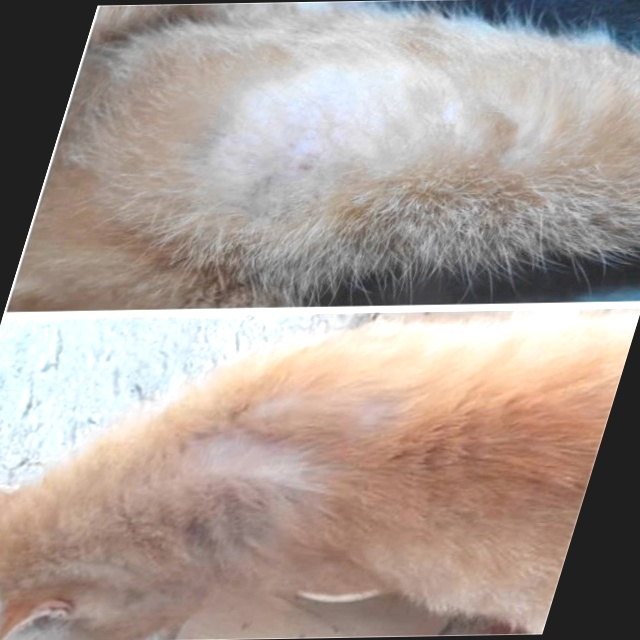hairloss: (213, 76, 469, 187), (192, 430, 313, 473), (258, 399, 404, 421)
